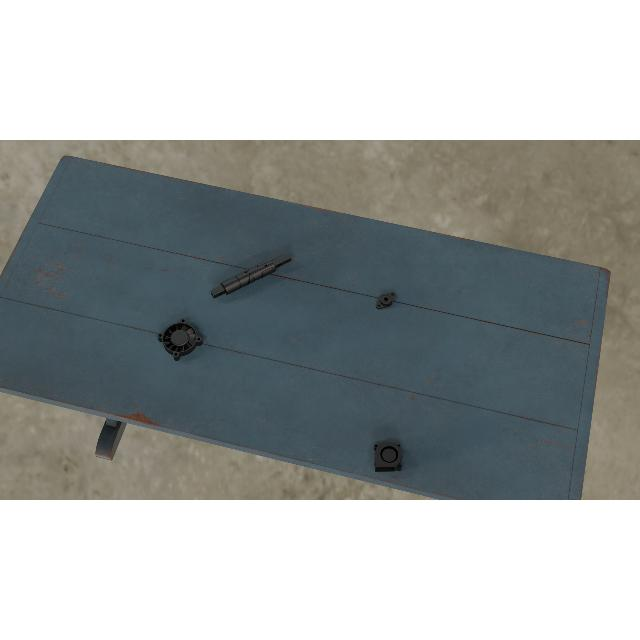Pieza1: (209, 249, 293, 303)
Pieza2: (372, 288, 400, 312)
Pieza3: (373, 442, 403, 472)
Pieza4: (156, 317, 204, 363)
